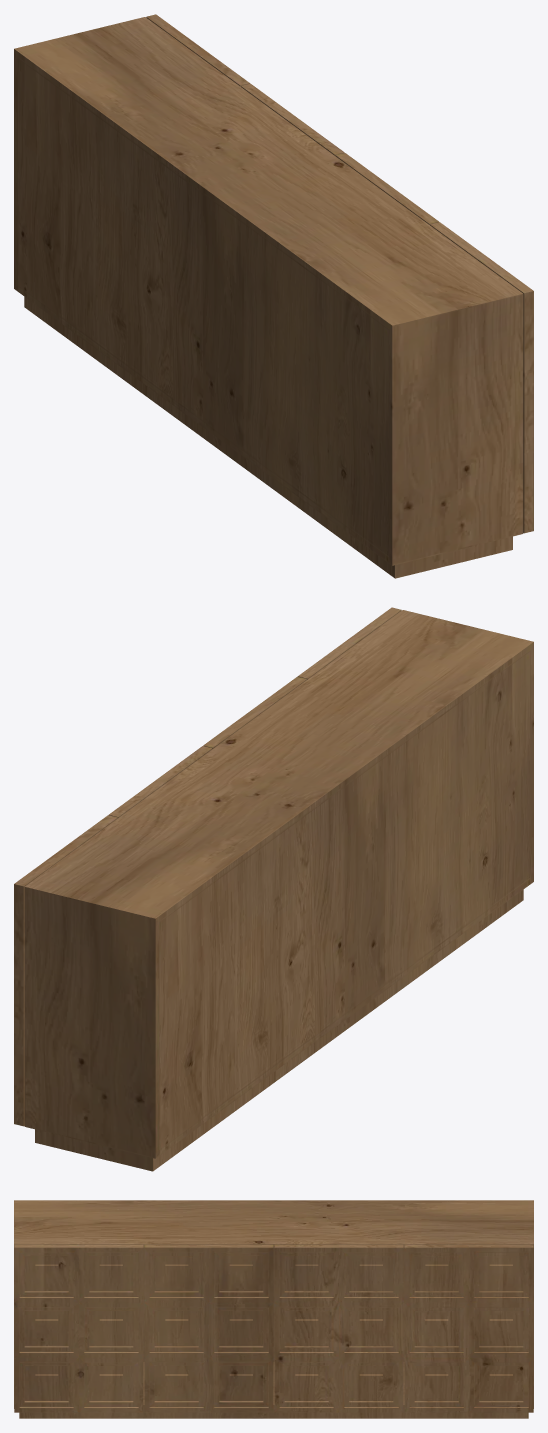
The model's file is sideboard_brutalist_console_02_sketch_studio.glb.
The picture shows the model from 3 angles, top to bottom: view 1: azimuth 30°, elevation 25°; view 2: azimuth 150°, elevation 25°; view 3: azimuth 270°, elevation 25°; orthographic projection. The views are drawn at different scales.
Parts seen in each view (by area): view 1: Object_4; view 2: Object_4; view 3: Object_4.
Boxes of the visible parts, x1,y1,x2,y2 form: Object_4: [14, 14, 533, 578]; Object_4: [14, 607, 533, 1171]; Object_4: [14, 1200, 533, 1418].
Size of the model in its own units: 0.4329 by 0.7501 by 2.
Materials: 1 (1 with a texture image).
